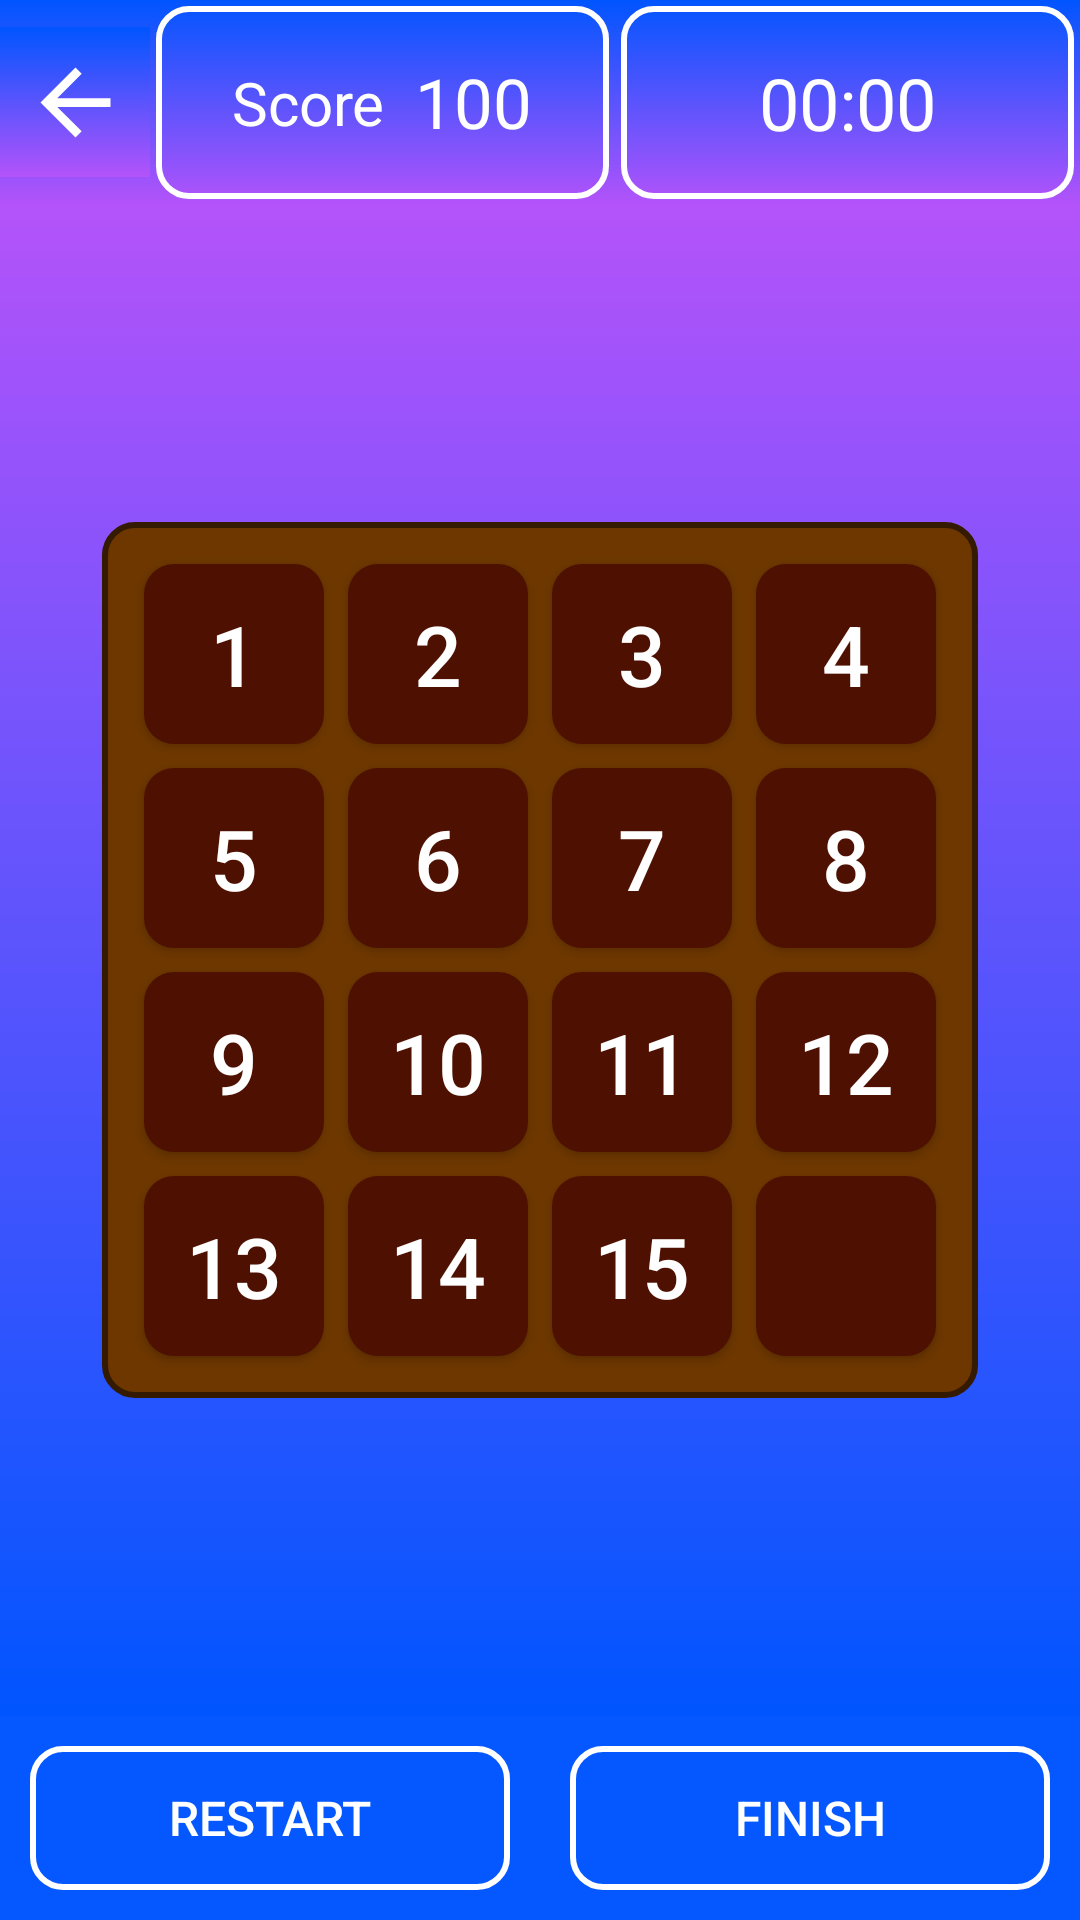

Icons on this 1080×1920 Android screen, each with the point to tap as [x,y]:
arrow back: [75,102]
